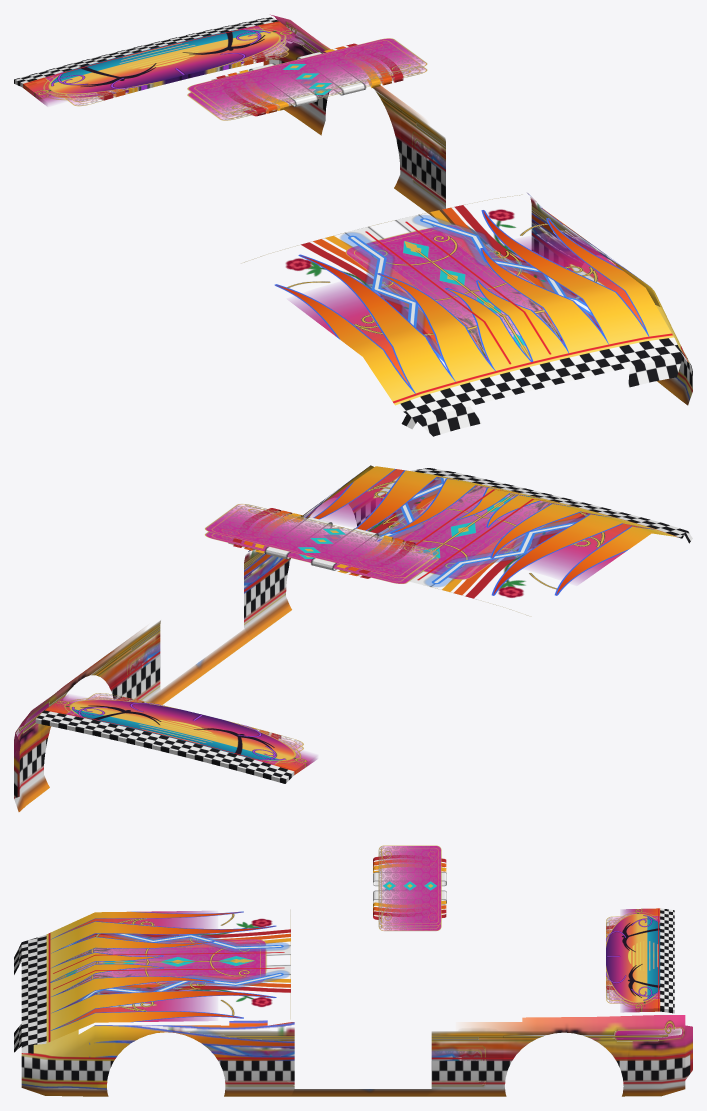
File: HayatoTypeZVinyls.glb
The picture shows the model from 3 angles, top to bottom: view 1: azimuth 30°, elevation 25°; view 2: azimuth 150°, elevation 25°; view 3: azimuth 270°, elevation 25°; orthographic projection. The views are drawn at different scales.
Parts seen in each view (by area): view 1: HayatoTypeZLivery_flames_hood, HayatoTypeZLivery_checker_hood, HayatoTypeZLivery_patterns_roof, HayatoTypeZLivery_patterns_hood, HayatoTypeZLivery_mural_trunk, HayatoTypeZLivery_purple_lace_roof, HayatoTypeZLivery_lightning_hood, HayatoTypeZLivery_purple_lace_hood, HayatoTypeZLivery_sunset_fade_hood, HayatoTypeZLivery_retro_waves_hood, HayatoTypeZLivery_checker_side, HayatoTypeZLivery_tropical_hood (+14 smaller); view 2: HayatoTypeZLivery_flames_hood, HayatoTypeZLivery_patterns_roof, HayatoTypeZLivery_mural_trunk, HayatoTypeZLivery_patterns_hood, HayatoTypeZLivery_purple_lace_roof, HayatoTypeZLivery_checker_trunk, HayatoTypeZLivery_checker_side, HayatoTypeZLivery_purple_lace_hood, HayatoTypeZLivery_sunset_fade_hood, HayatoTypeZLivery_lightning_hood, HayatoTypeZLivery_sunset_fade_side, HayatoTypeZLivery_checker_hood (+16 smaller); view 3: HayatoTypeZLivery_flames_hood, HayatoTypeZLivery_checker_side, HayatoTypeZLivery_flames_side, HayatoTypeZLivery_patterns_hood, HayatoTypeZLivery_patterns_roof, HayatoTypeZLivery_tropical_side, HayatoTypeZLivery_mural_trunk, HayatoTypeZLivery_checker_hood, HayatoTypeZLivery_sunset_fade_side, HayatoTypeZLivery_purple_lace_roof, HayatoTypeZLivery_retro_waves_side, HayatoTypeZLivery_stripes_side (+21 smaller).
Part boxes in pixels (x1=…): HayatoTypeZLivery_flames_hood: x1=274, y1=210, x2=673, y2=405; HayatoTypeZLivery_checker_hood: x1=365, y1=221, x2=687, y2=436; HayatoTypeZLivery_patterns_roof: x1=187, y1=38, x2=426, y2=120; HayatoTypeZLivery_patterns_hood: x1=345, y1=224, x2=562, y2=358; HayatoTypeZLivery_mural_trunk: x1=34, y1=27, x2=292, y2=99; HayatoTypeZLivery_purple_lace_roof: x1=189, y1=41, x2=426, y2=119; HayatoTypeZLivery_lightning_hood: x1=340, y1=215, x2=597, y2=369; HayatoTypeZLivery_purple_lace_hood: x1=390, y1=237, x2=558, y2=354; HayatoTypeZLivery_sunset_fade_hood: x1=294, y1=235, x2=644, y2=385; HayatoTypeZLivery_retro_waves_hood: x1=301, y1=205, x2=601, y2=356; HayatoTypeZLivery_checker_side: x1=268, y1=55, x2=692, y2=392; HayatoTypeZLivery_tropical_hood: x1=296, y1=237, x2=615, y2=338; HayatoTypeZLivery_flames_hood: x1=313, y1=466, x2=678, y2=595; HayatoTypeZLivery_patterns_roof: x1=205, y1=504, x2=438, y2=583; HayatoTypeZLivery_mural_trunk: x1=56, y1=698, x2=306, y2=767; HayatoTypeZLivery_patterns_hood: x1=385, y1=486, x2=557, y2=579; HayatoTypeZLivery_purple_lace_roof: x1=209, y1=504, x2=438, y2=582; HayatoTypeZLivery_checker_trunk: x1=35, y1=709, x2=295, y2=783; HayatoTypeZLivery_checker_side: x1=14, y1=501, x2=391, y2=798; HayatoTypeZLivery_purple_lace_hood: x1=403, y1=486, x2=553, y2=563; HayatoTypeZLivery_sunset_fade_hood: x1=309, y1=469, x2=648, y2=580; HayatoTypeZLivery_lightning_hood: x1=377, y1=477, x2=604, y2=586; HayatoTypeZLivery_sunset_fade_side: x1=14, y1=534, x2=380, y2=811; HayatoTypeZLivery_checker_hood: x1=410, y1=468, x2=692, y2=580; HayatoTypeZLivery_flames_hood: x1=46, y1=911, x2=276, y2=1042; HayatoTypeZLivery_checker_side: x1=21, y1=1051, x2=691, y2=1084; HayatoTypeZLivery_flames_side: x1=21, y1=1020, x2=667, y2=1089; HayatoTypeZLivery_patterns_hood: x1=56, y1=939, x2=266, y2=990; HayatoTypeZLivery_patterns_roof: x1=379, y1=845, x2=441, y2=930; HayatoTypeZLivery_tropical_side: x1=468, y1=1015, x2=692, y2=1061; HayatoTypeZLivery_mural_trunk: x1=606, y1=908, x2=660, y2=1011; HayatoTypeZLivery_checker_hood: x1=14, y1=932, x2=284, y2=1053; HayatoTypeZLivery_sunset_fade_side: x1=21, y1=1032, x2=692, y2=1096; HayatoTypeZLivery_purple_lace_roof: x1=379, y1=846, x2=435, y2=930; HayatoTypeZLivery_retro_waves_side: x1=204, y1=1030, x2=692, y2=1071; HayatoTypeZLivery_stripes_side: x1=21, y1=1076, x2=688, y2=1092.
Size of the model in its own units: 6.95 by 4.34 by 17.4.
50 materials, 50 textured.
